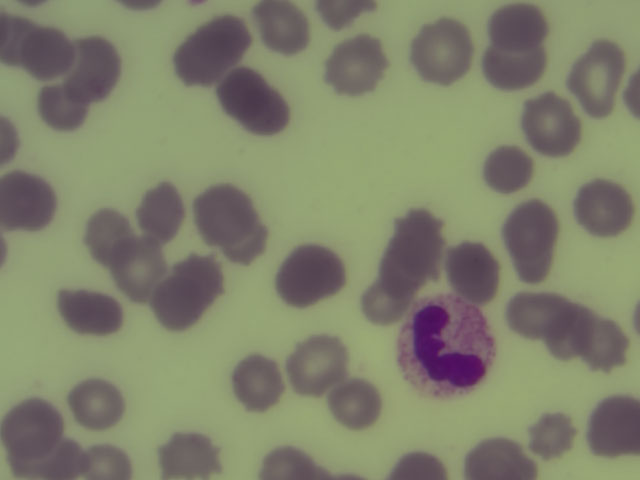RBC: (588, 390, 640, 464), (55, 286, 122, 340), (569, 43, 621, 112), (506, 201, 557, 269), (251, 1, 309, 57), (389, 209, 446, 265), (574, 182, 631, 238), (479, 139, 536, 195), (524, 95, 581, 151), (327, 371, 384, 427), (287, 333, 344, 389), (230, 352, 287, 408), (71, 373, 128, 429), (277, 247, 334, 303), (158, 266, 215, 322), (199, 184, 256, 240), (486, 35, 543, 91), (413, 24, 470, 80), (326, 36, 383, 92), (221, 71, 278, 127), (173, 24, 230, 80), (66, 37, 123, 93), (445, 242, 502, 298), (361, 269, 418, 325), (111, 239, 162, 301), (1, 400, 57, 456), (1, 172, 57, 228), (157, 431, 219, 480), (484, 1, 552, 45), (12, 438, 81, 480), (524, 411, 577, 462), (136, 181, 184, 236), (579, 322, 627, 376), (462, 440, 526, 480), (37, 83, 90, 131), (77, 440, 136, 480), (543, 304, 585, 360), (17, 28, 70, 72), (84, 205, 127, 259), (508, 291, 560, 334), (257, 445, 318, 480), (391, 444, 449, 480), (1, 15, 35, 67)
WBC: (401, 302, 496, 395)
